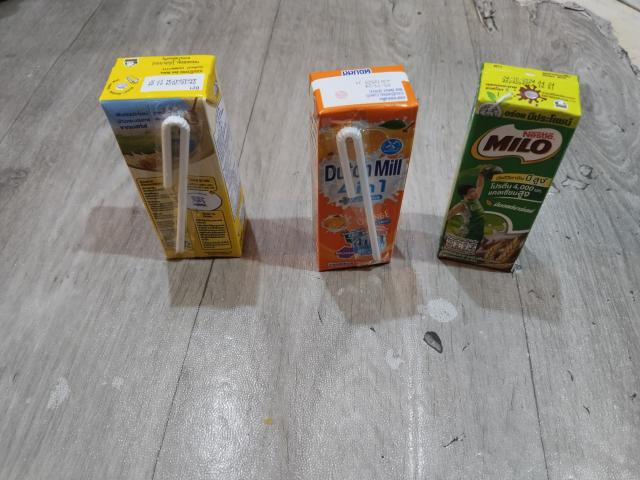drink_box: (90, 48, 255, 263), (433, 57, 586, 276), (303, 59, 425, 279)
